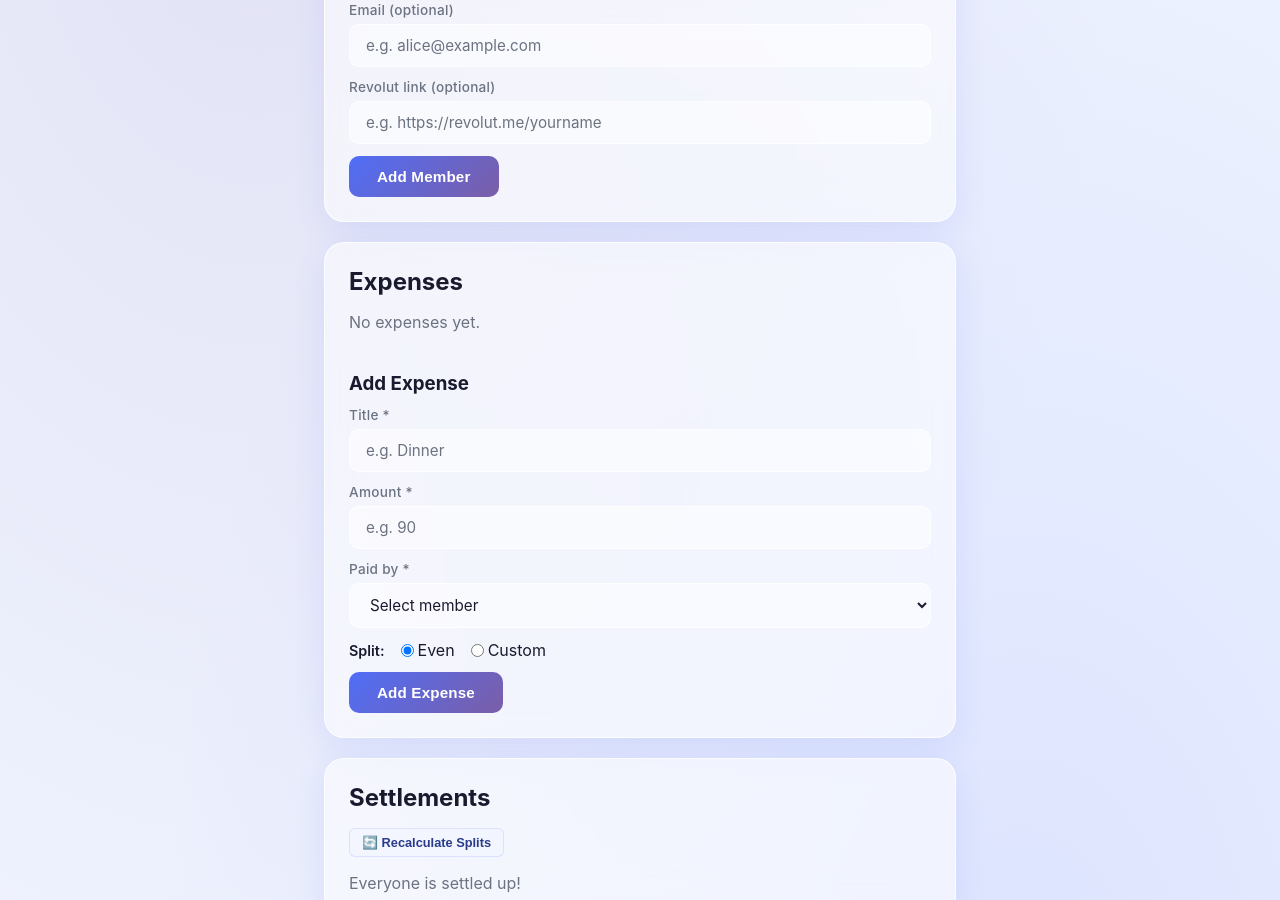
Test: GroupPage — add expense › adds an expense with an even split and refreshes settlements
The width and height of the screenshot is (1280, 900).
(page scrolled)
Type "Dinner" into the field with placeholder "e.g. Dinner". click: (640, 450)
box: [349,429,931,472]
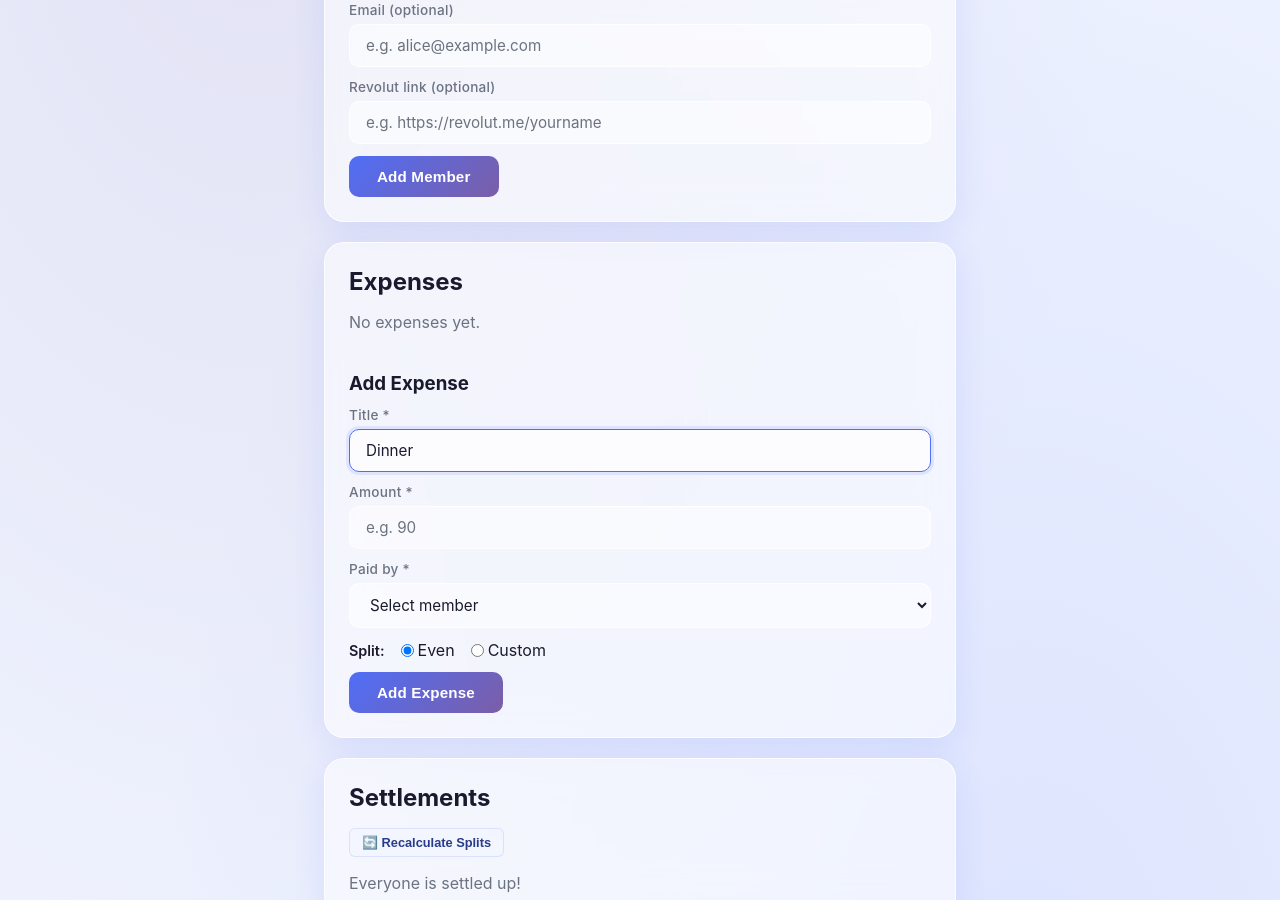
Type "90" into the number field with placeholder "e.g. 90". click: (640, 528)
box: [349,506,931,549]
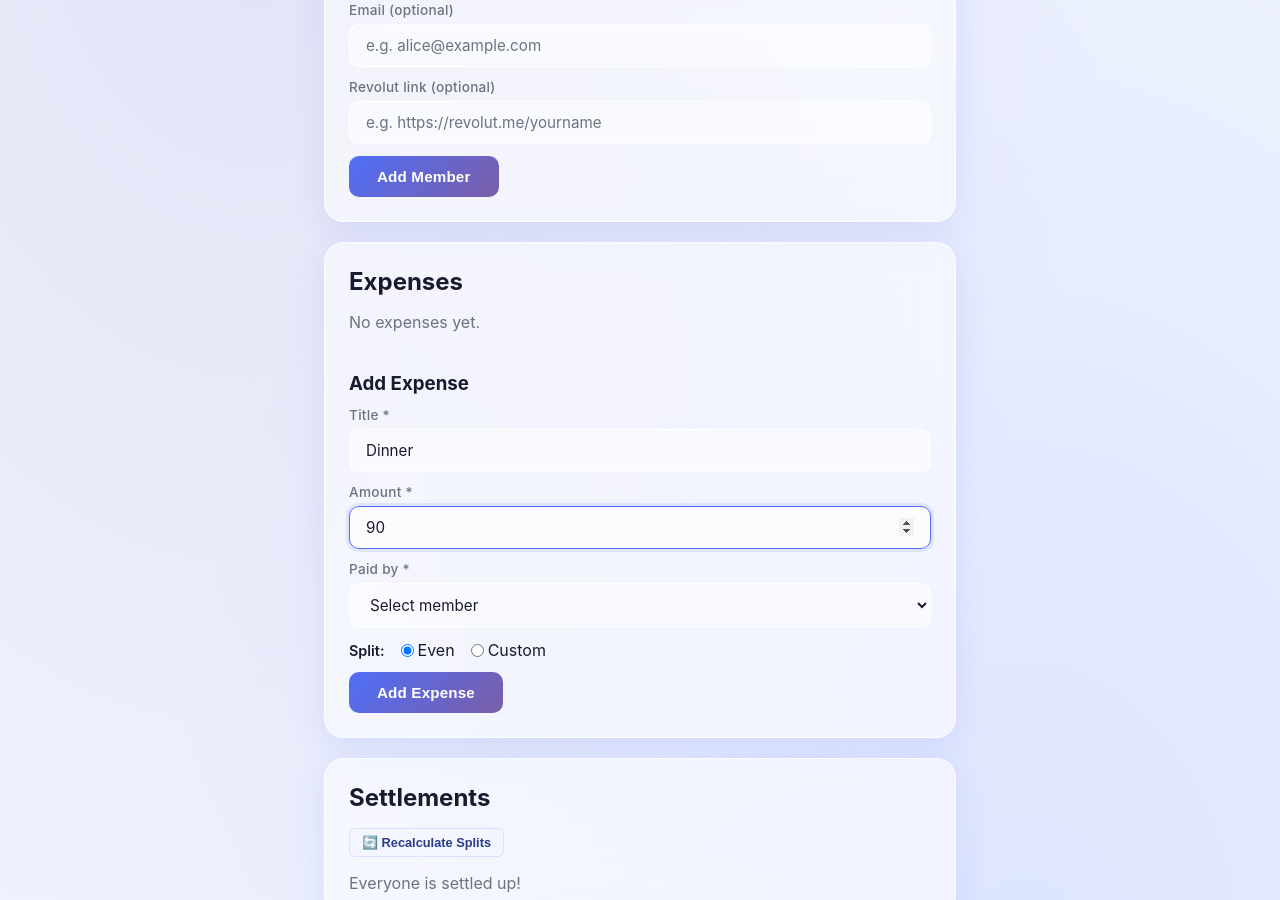
Select "Alice" in the dropdown. click: (640, 606)
box: [349,583,931,628]
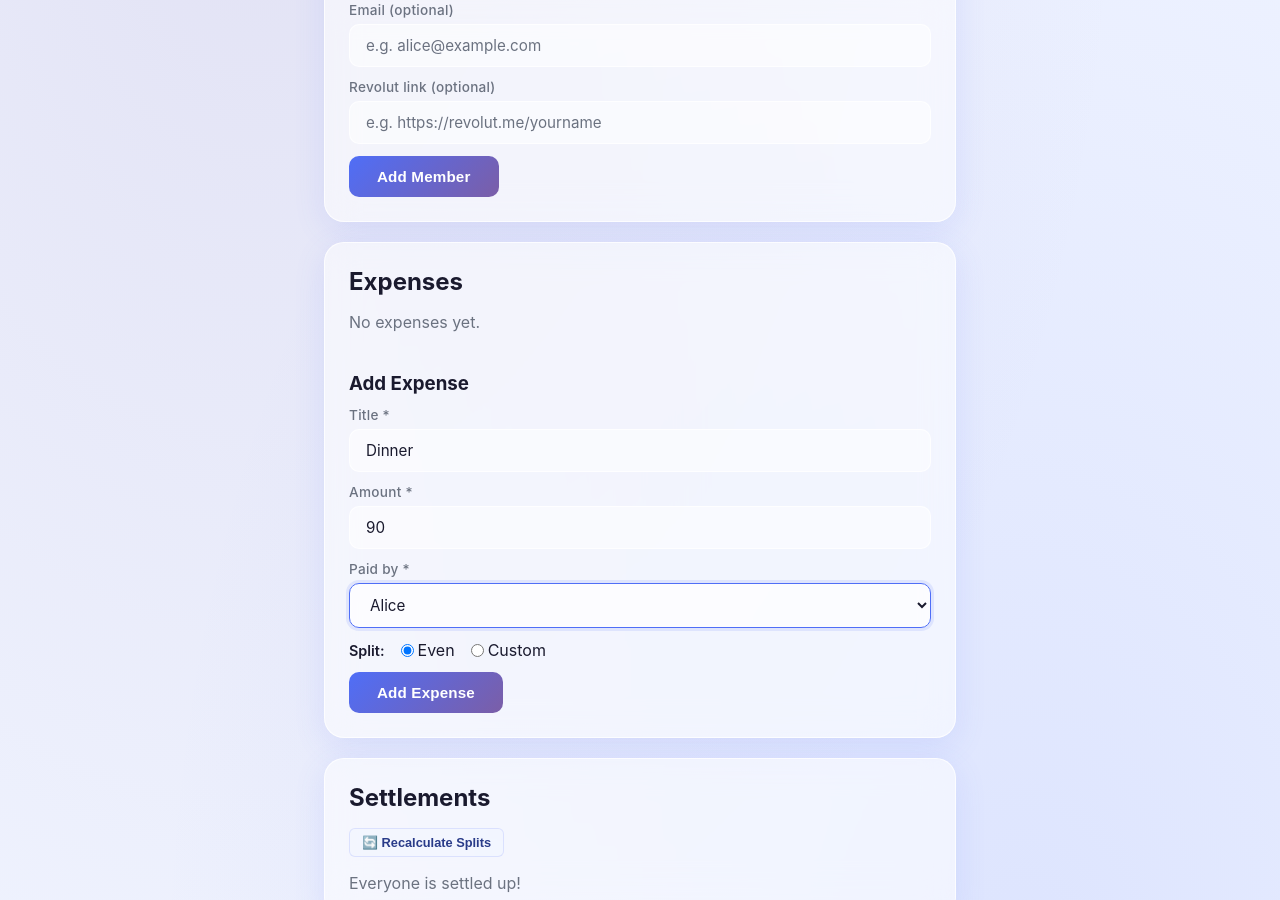
Click the button "Add Expense". click: (426, 692)
box: [349,672,503,713]
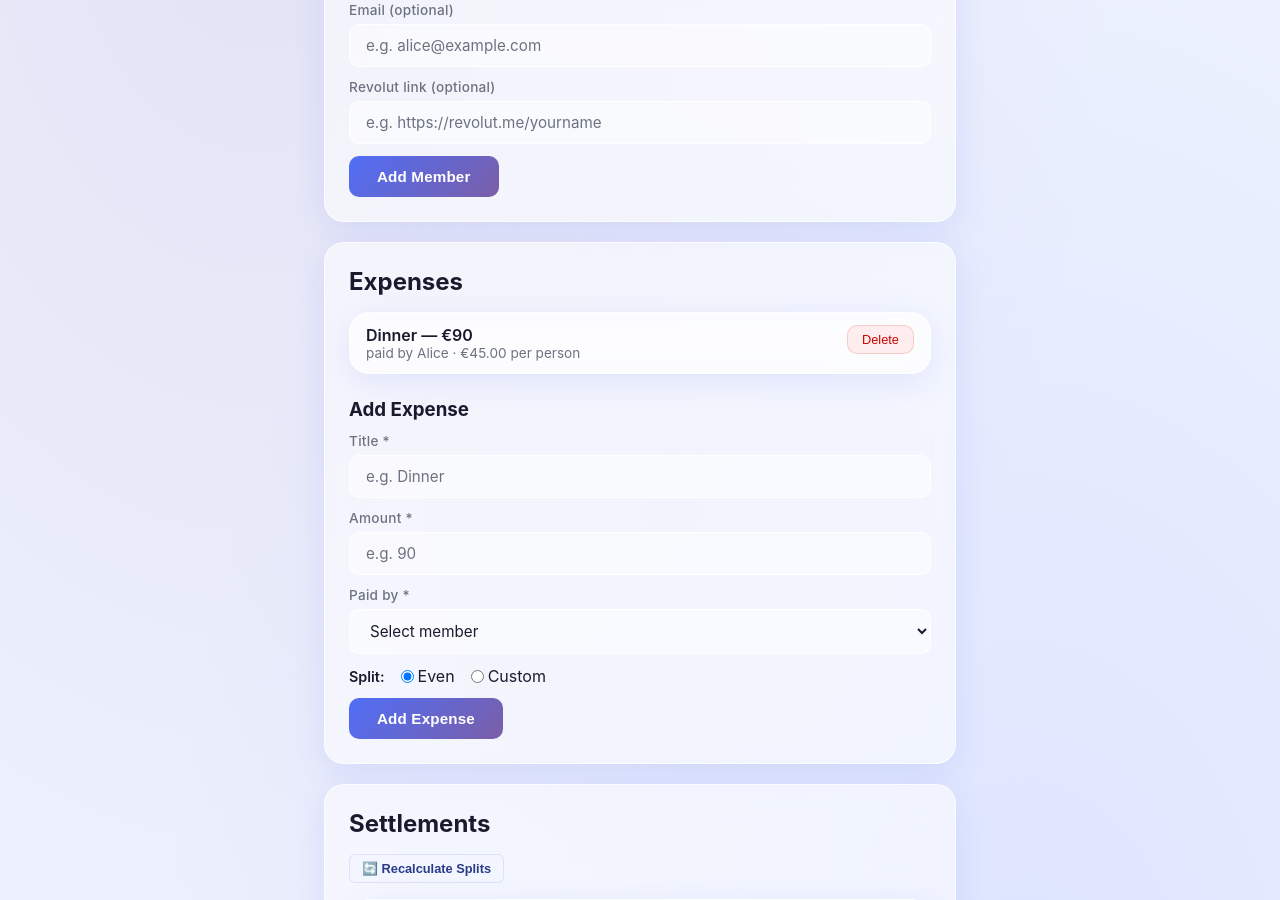
Check: the text "Dinner — €90" is shown, box [366,325,473,345]
